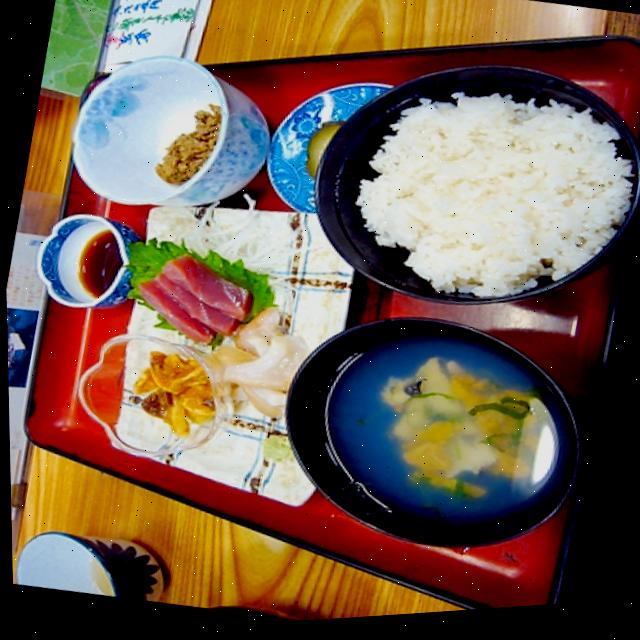刺身生食: (104, 224, 285, 367)
